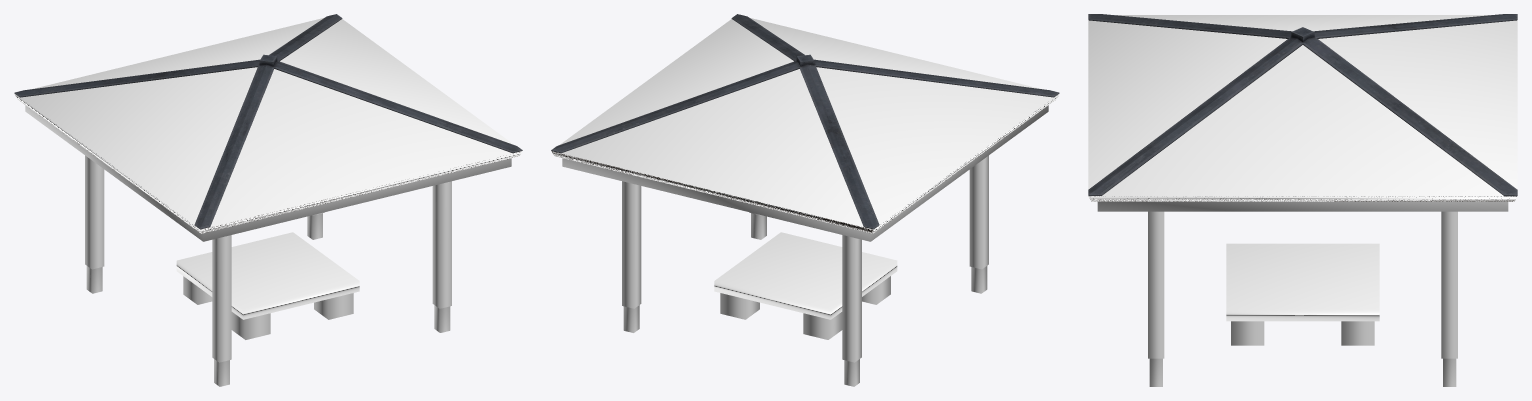
File: objects_un_dlc1_slrestarea01.gltf
3 renders of one model, left to right at view 1: azimuth 30°, elevation 25°; view 2: azimuth 150°, elevation 25°; view 3: azimuth 270°, elevation 25°, orthographic. The views are drawn at different scales.
Visible parts, largest first — view 1: um_objects_un_dlc1_slrestarea01_model_lod0Shape:objects_un_d (×2); view 2: um_objects_un_dlc1_slrestarea01_model_lod0Shape:objects_un_d (×2); view 3: um_objects_un_dlc1_slrestarea01_model_lod0Shape:objects_un_d (×2).
Part boxes in pixels (bbox=[...]): um_objects_un_dlc1_slrestarea01_model_lod0Shape:objects_un_d (×2): bbox=[14, 14, 522, 386]; um_objects_un_dlc1_slrestarea01_model_lod0Shape:objects_un_d (×2): bbox=[551, 14, 1059, 386]; um_objects_un_dlc1_slrestarea01_model_lod0Shape:objects_un_d (×2): bbox=[1088, 14, 1517, 386].
Size of what is drawn, in the model's own units: 5.54 by 4.13 by 5.54.
Materials: 2 (1 with a texture image).
